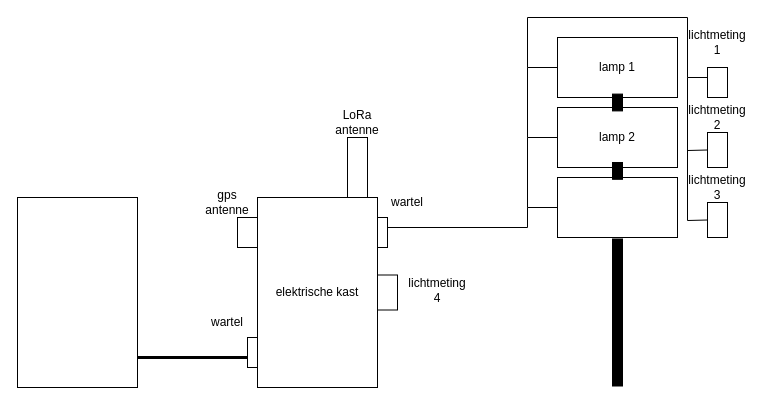
Some shapes in this 765 by 405 pixel diagram are drawn without their labels. Here are the shapes that lost their labels. From the top down, the centre of each, then its label:
At pixel 617 207: "lamp 3".
At pixel 77 292: "accu kast".
